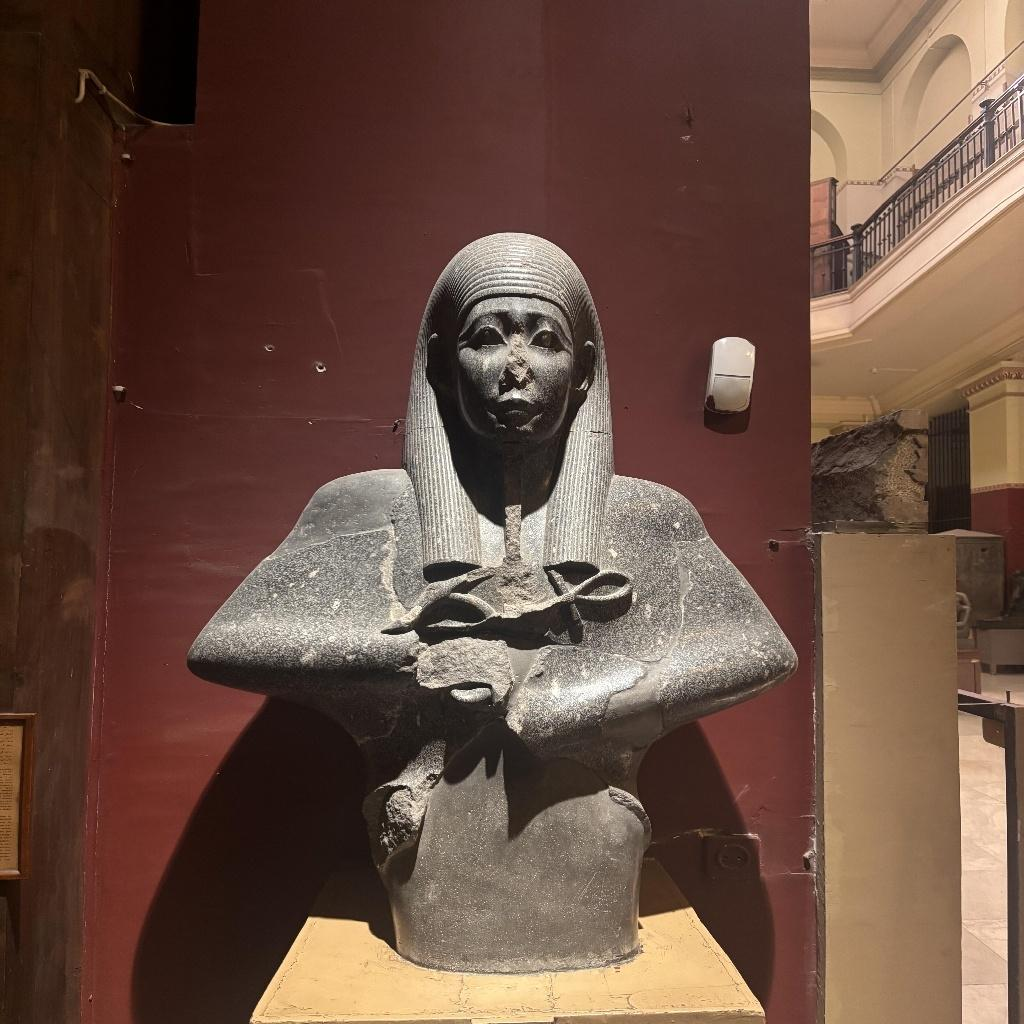Granite Statue of Osiris: (189, 226, 804, 850)
